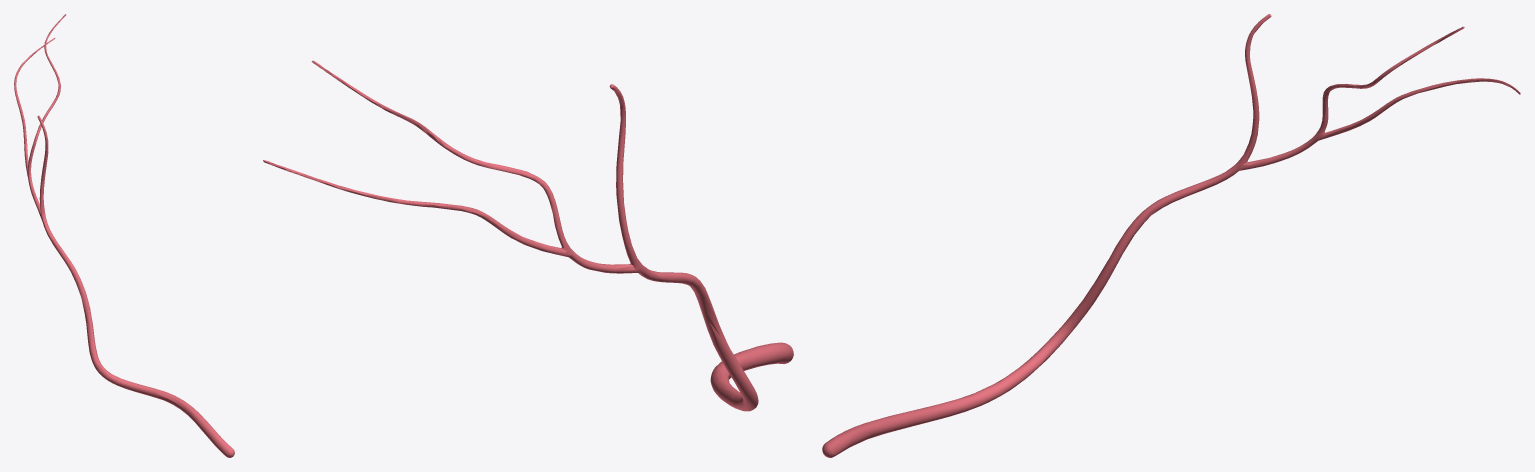
Rendered from fma86137_fj1691m.glb.
3 renders of one model, left to right at view 1: azimuth 30°, elevation 25°; view 2: azimuth 150°, elevation 25°; view 3: azimuth 270°, elevation 25°, orthographic. The views are drawn at different scales.
Parts seen in each view (by area): view 1: FMA86137_FJ1691M; view 2: FMA86137_FJ1691M; view 3: FMA86137_FJ1691M.
Part boxes in pixels (x1,y1,x2,y2): FMA86137_FJ1691M: [14, 14, 234, 457]; FMA86137_FJ1691M: [263, 60, 793, 411]; FMA86137_FJ1691M: [822, 14, 1520, 457].
Size of the model in its own units: 0.0178 by 0.047 by 0.0649.
